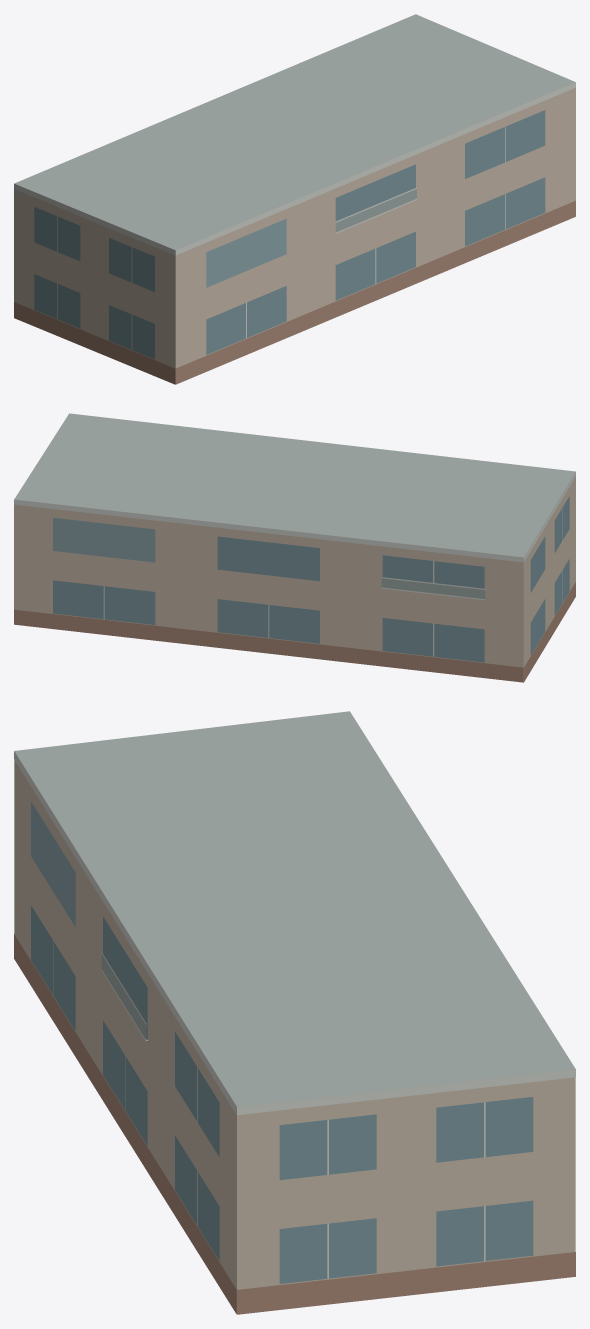
The model's file is survey-upis-32721338.glb.
The picture shows the model from 3 angles, top to bottom: view 1: azimuth 30°, elevation 25°; view 2: azimuth 150°, elevation 25°; view 3: azimuth 270°, elevation 25°; orthographic projection. The views are drawn at different scales.
Parts seen in each view (by area): view 1: survey-upis-32721338.tmp; view 2: survey-upis-32721338.tmp; view 3: survey-upis-32721338.tmp.
Part boxes in pixels (x1=…): survey-upis-32721338.tmp: x1=14, y1=14, x2=575, y2=384; survey-upis-32721338.tmp: x1=14, y1=413, x2=575, y2=682; survey-upis-32721338.tmp: x1=14, y1=711, x2=575, y2=1314.
Size of the model in its own units: 24.94 by 6.1 by 14.96.
